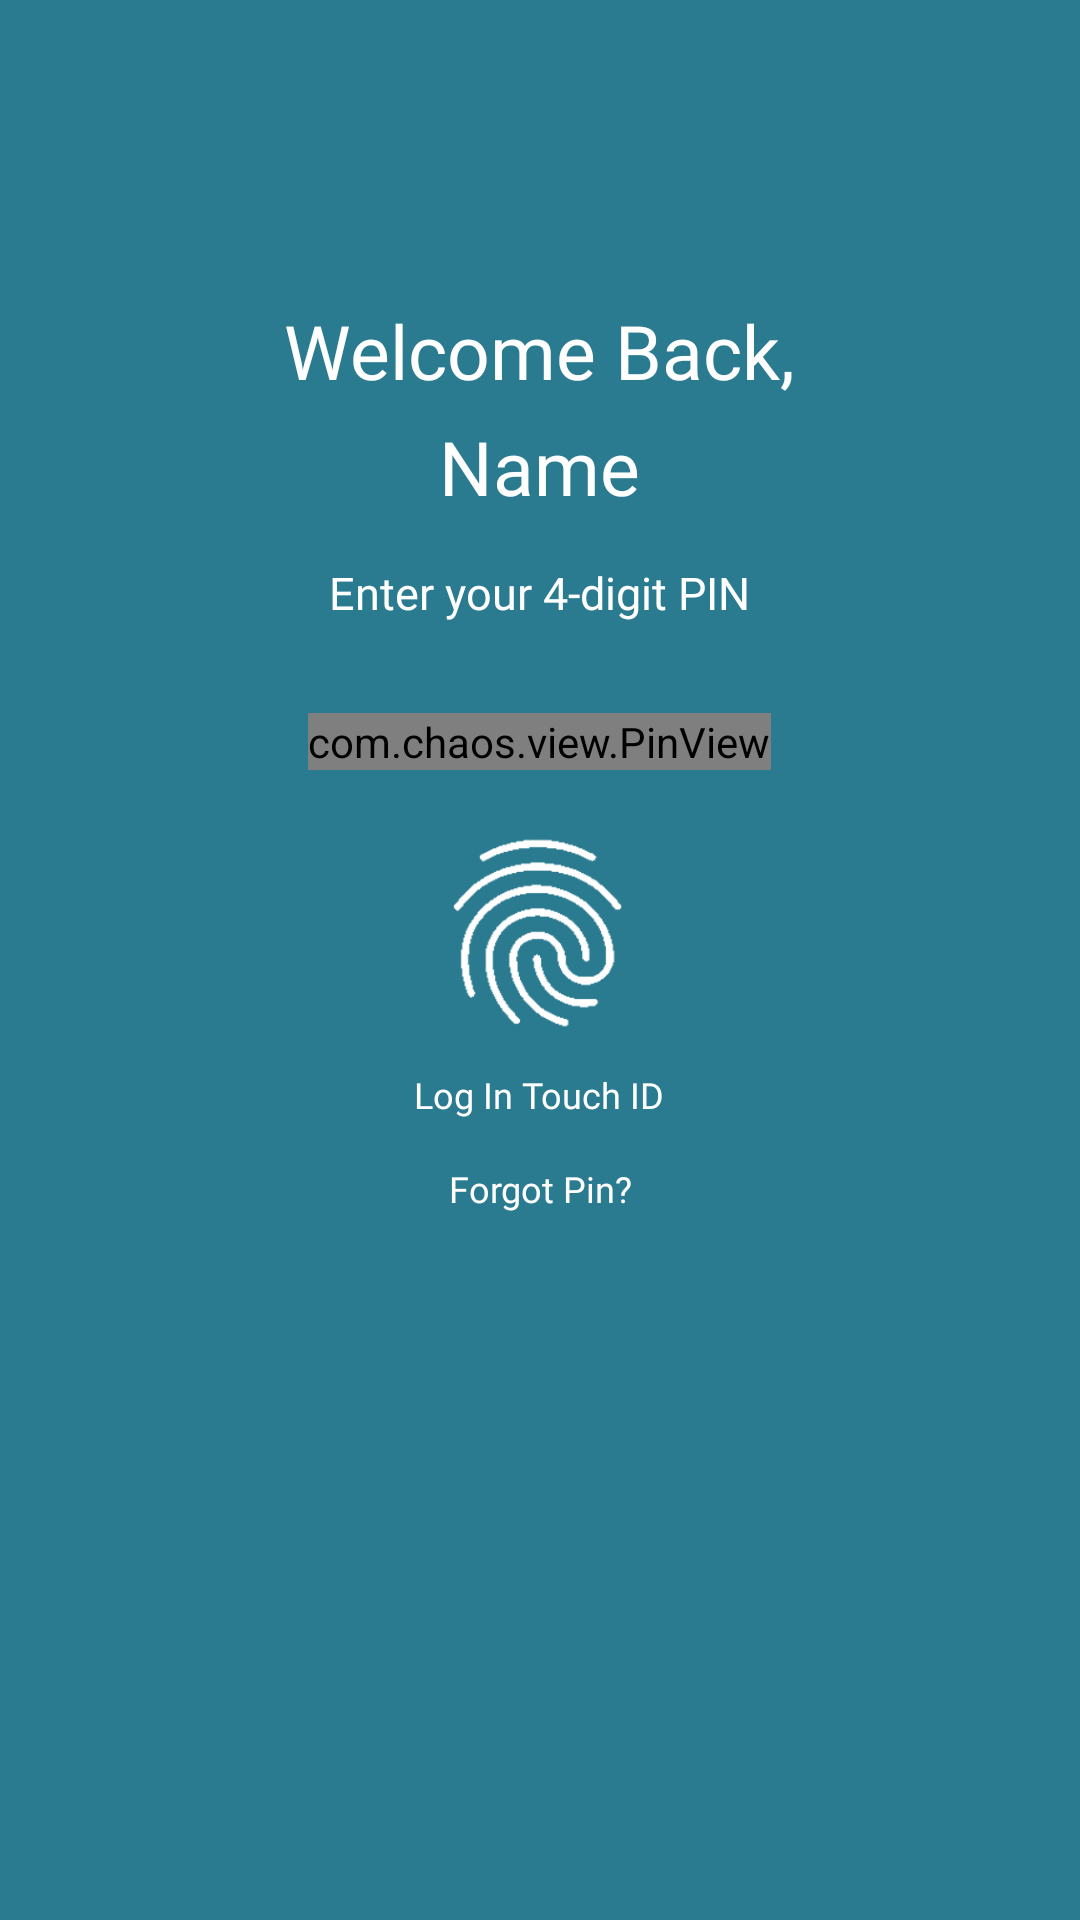

Screen size 1080 x 1920. Icon name, then its box in pixels as (x1, y1, x2, y2):
fingerprint: (453, 839, 622, 1027)
